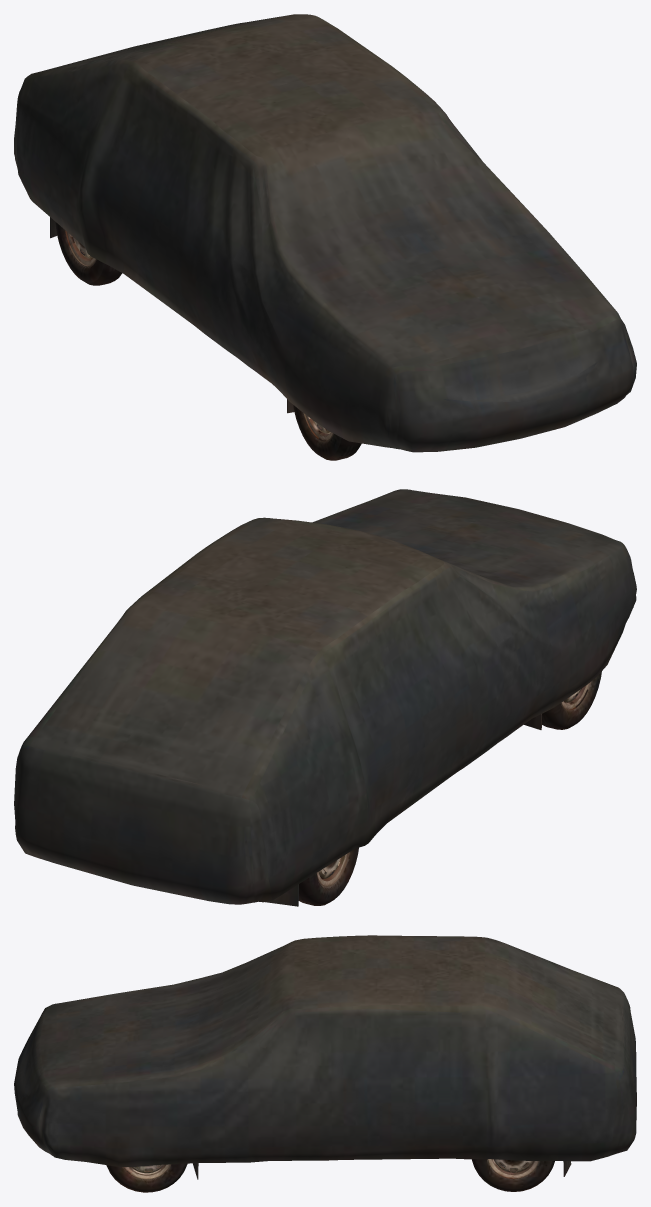
Rendered from covered_car.glb.
The picture shows the model from 3 angles, top to bottom: view 1: azimuth 30°, elevation 25°; view 2: azimuth 150°, elevation 25°; view 3: azimuth 270°, elevation 25°; orthographic projection. The views are drawn at different scales.
Parts seen in each view (by area): view 1: covered_car; view 2: covered_car; view 3: covered_car.
Part boxes in pixels (left/top/right/bottom): covered_car: left=14, top=14, right=636, bottom=460; covered_car: left=14, top=489, right=636, bottom=906; covered_car: left=14, top=935, right=636, bottom=1192.
Bounding box in the file's own units: 1.8 × 1.42 × 4.4.
1 material, 1 textured.
